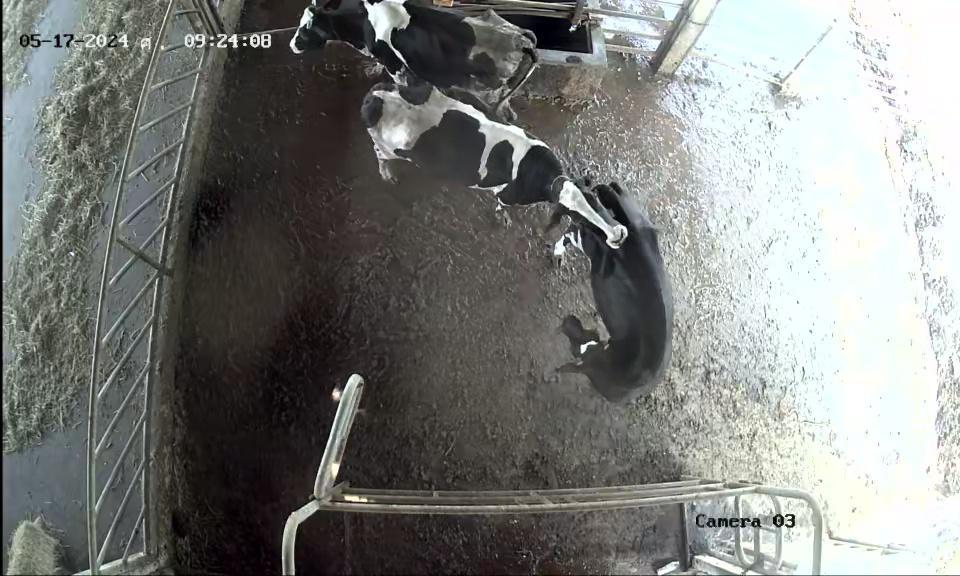propping: (527, 148, 634, 268)
stand: (547, 169, 692, 404), (278, 0, 541, 117)
